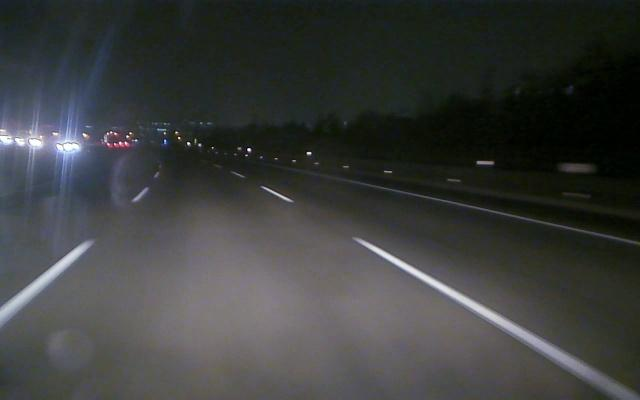lane: (266, 190, 634, 396), (3, 186, 150, 324), (373, 183, 640, 248)
